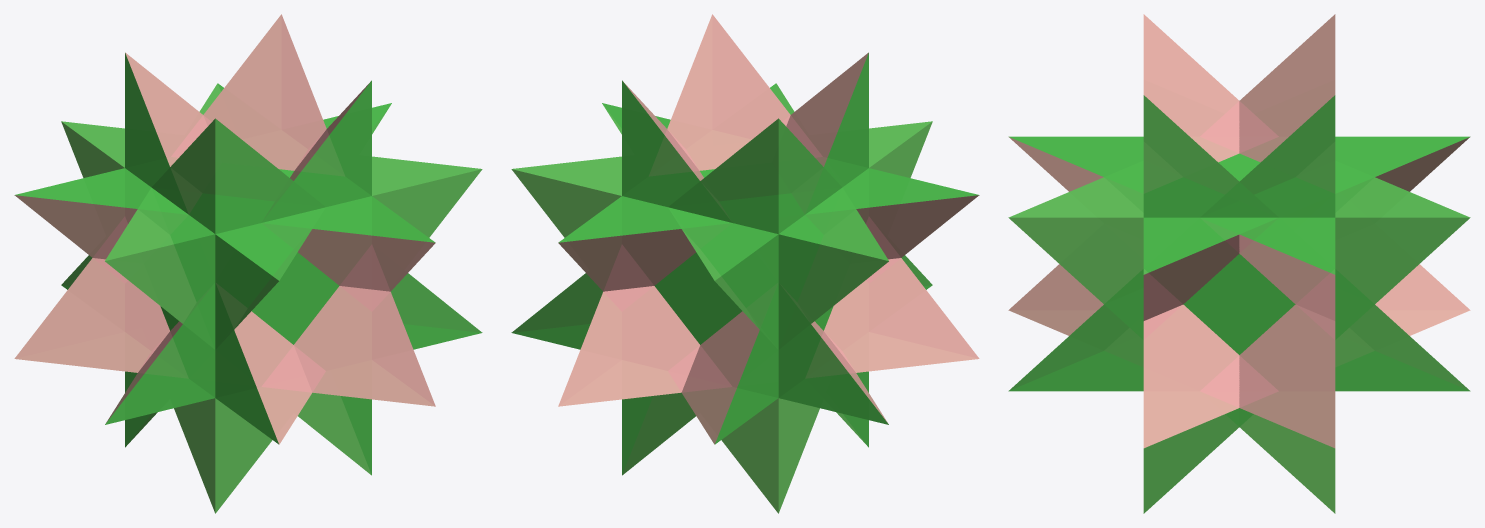
File: StellatedTruncatedHexahedron.obj
The picture shows the model from 3 angles, left to right: view 1: azimuth 30°, elevation 25°; view 2: azimuth 150°, elevation 25°; view 3: azimuth 270°, elevation 25°; orthographic projection. The views are drawn at different scales.
Size of the model in its own units: 1 by 1 by 1.
